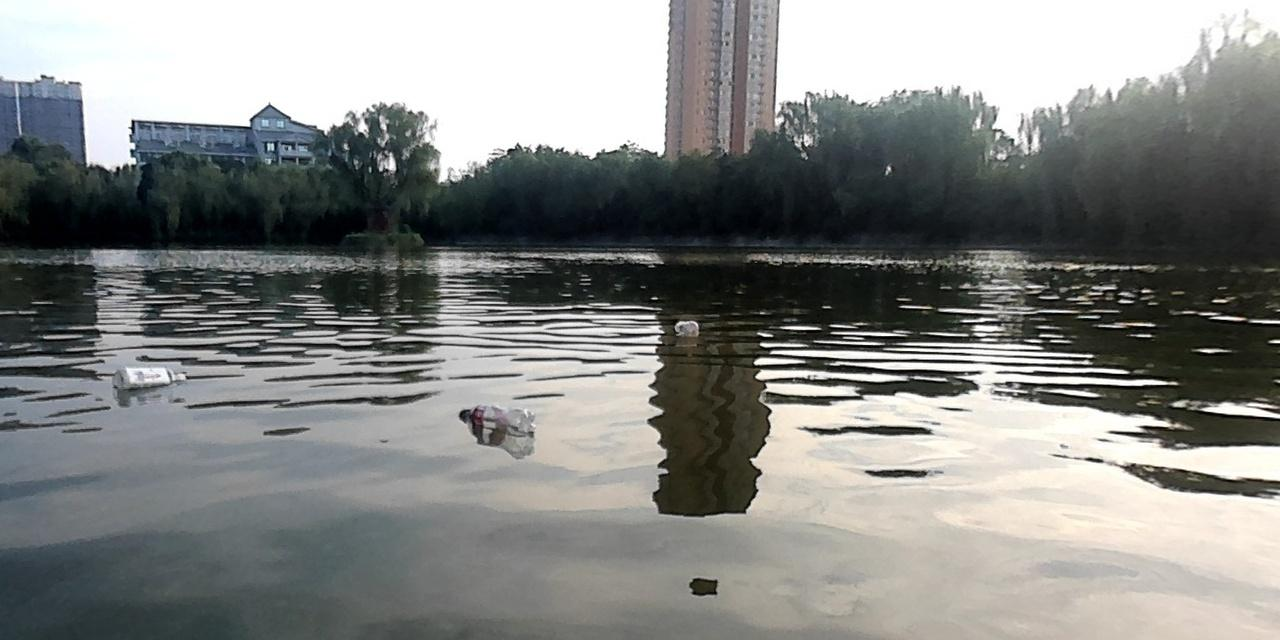bottle: (457, 401, 532, 437), (112, 365, 186, 390), (674, 319, 697, 335)
